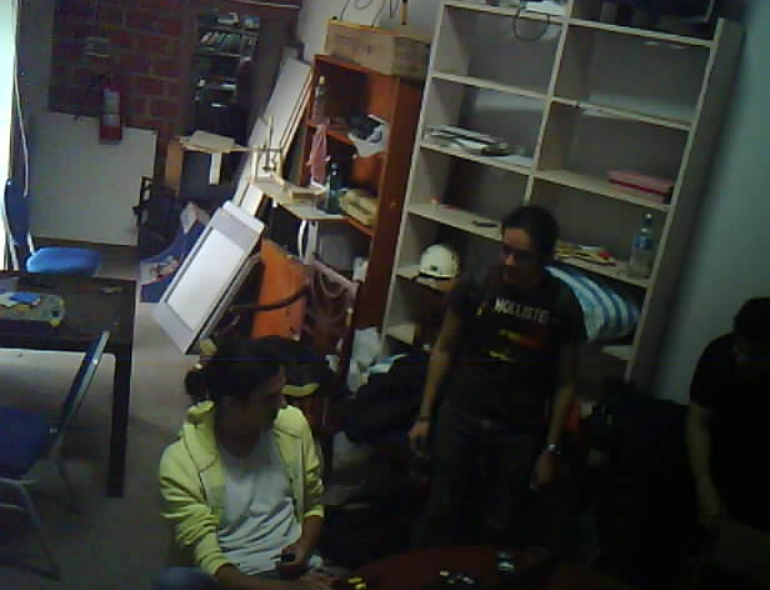person: (410, 172, 592, 551), (123, 342, 368, 590)
